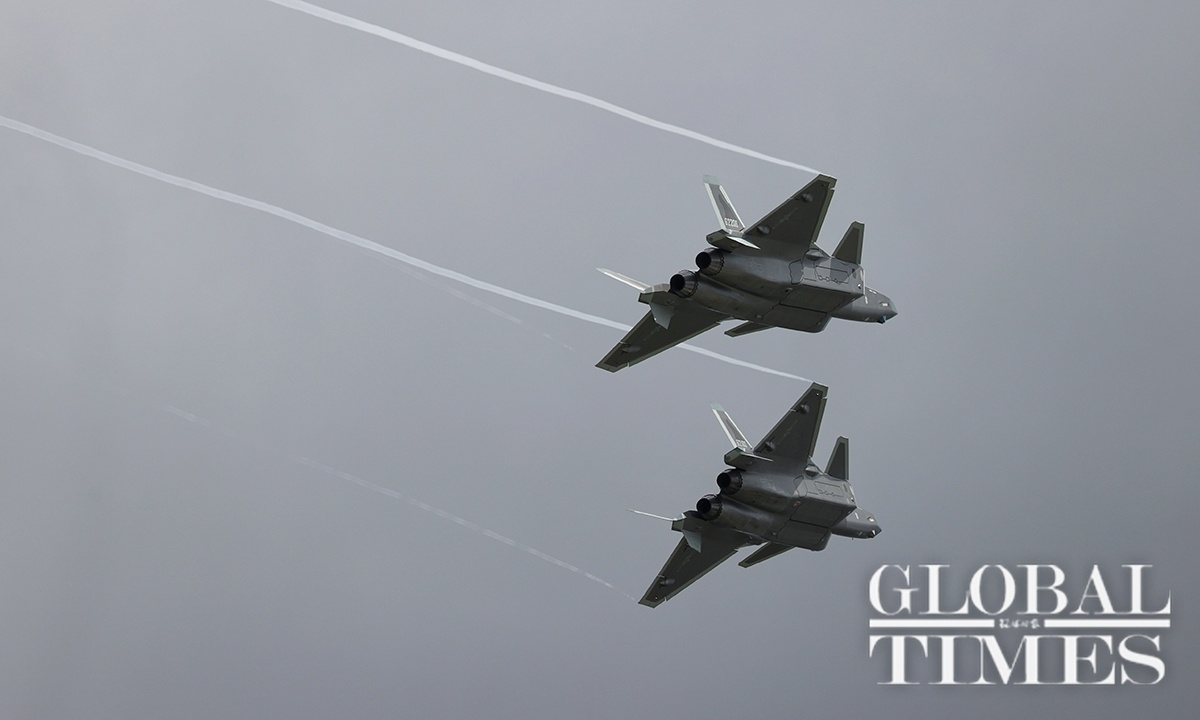J20: (594, 173, 898, 374), (624, 381, 883, 610)
